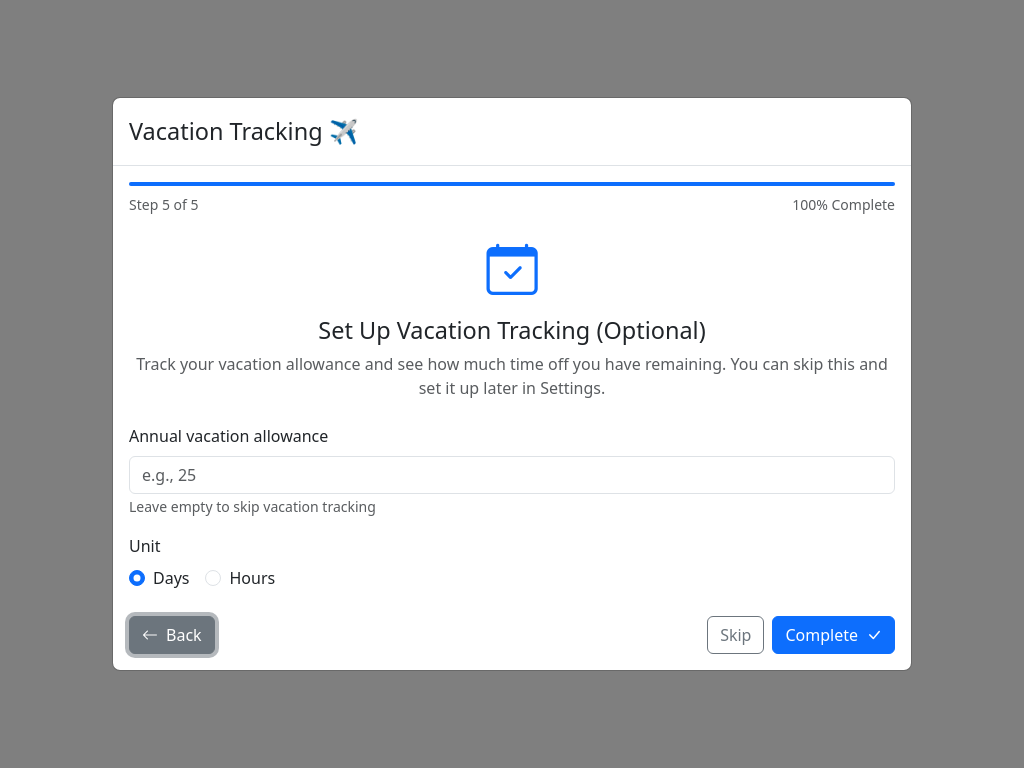
Scenario: WelcomeWizard › Vacation Allowance Step › should show validation error for negative vacation amount
Type "-5" into the number field labelled "Annual vacation allowance". click: [512, 475]
box: left=129, top=456, right=895, bottom=494
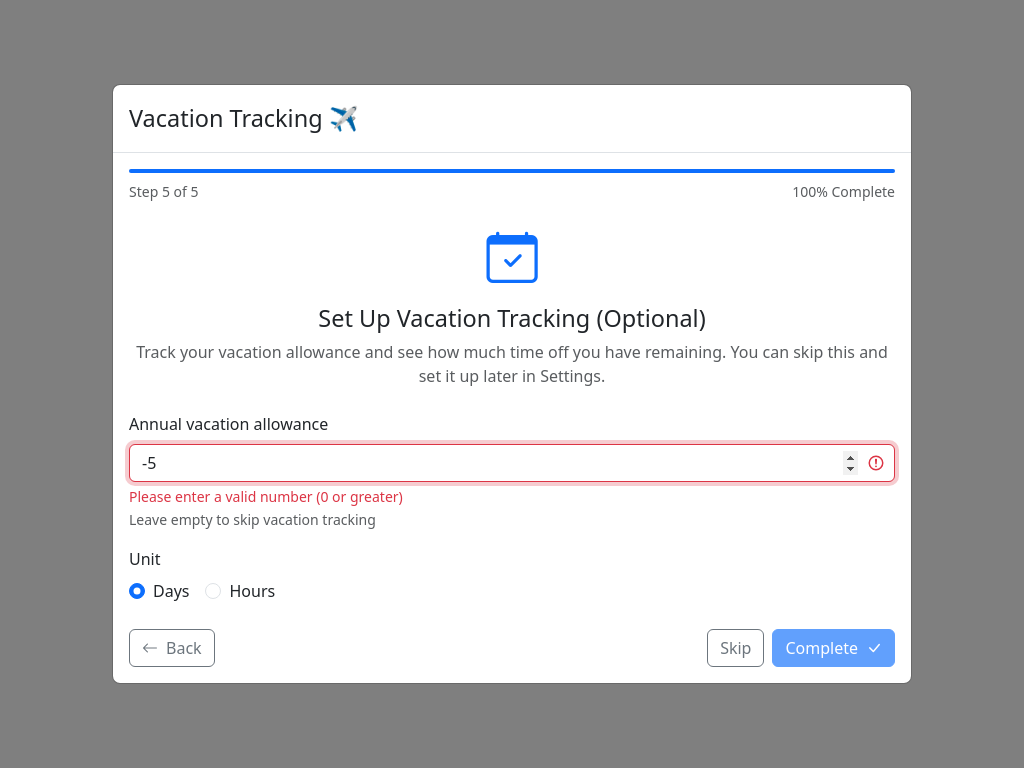
Expected: the text "Please enter a valid number (0 or greater)" is shown, left=129, top=487, right=403, bottom=506
Expected: the button "Complete" is disabled, left=772, top=629, right=895, bottom=667
